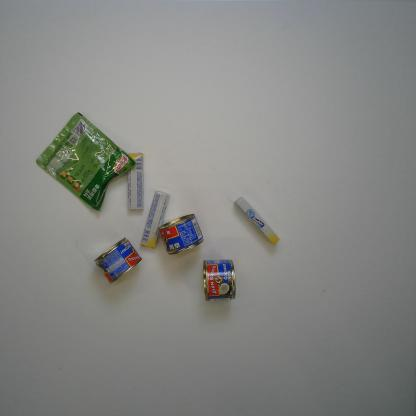Candy: (232, 196, 280, 246), (140, 190, 170, 249), (126, 152, 144, 212)
Canned Food: (92, 237, 145, 286), (157, 211, 204, 256), (202, 258, 238, 302)
Seasoner: (35, 112, 137, 212)
